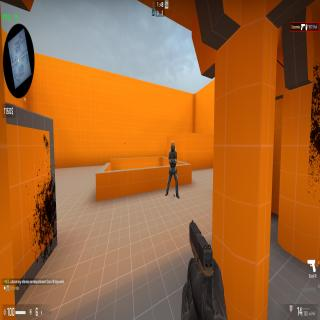CT-Body: (166, 141, 179, 199)
CT-Head: (170, 140, 176, 152)
